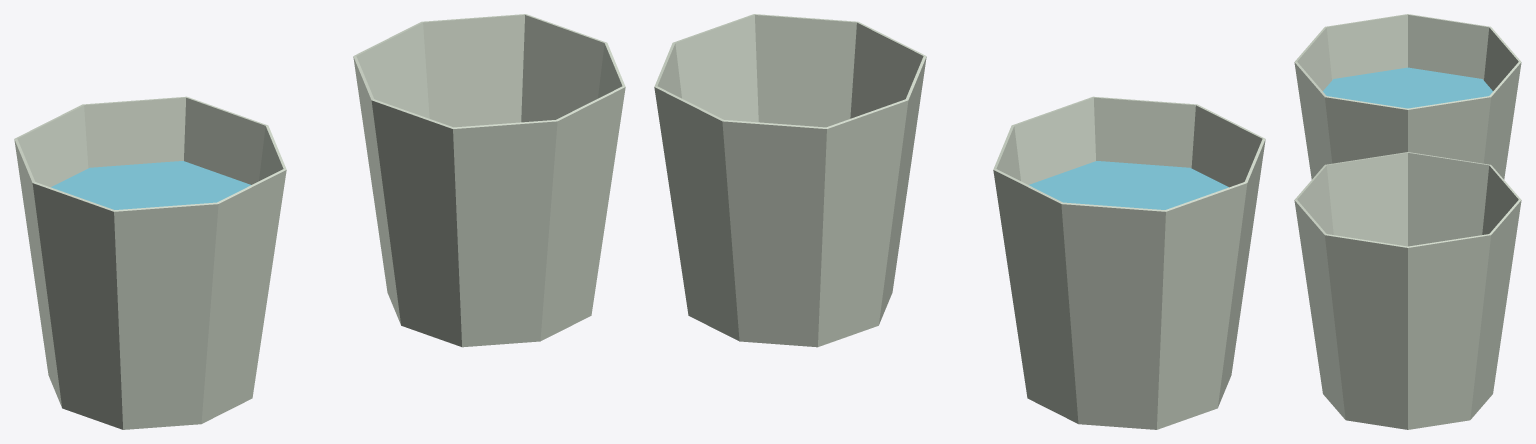
File: Budget.fbx
3 views of the same model, side by side, from view 1: azimuth 30°, elevation 25°; view 2: azimuth 150°, elevation 25°; view 3: azimuth 270°, elevation 25° (orthographic). The views are drawn at different scales.
Visible parts, largest first — view 1: Plane.001, Plane, Plane.002; view 2: Plane.001, Plane, Plane.002; view 3: Plane.001, Plane, Plane.002.
Part boxes in pixels (x1,y1,x2,y2): Plane.001: (353, 14, 625, 347); Plane: (14, 96, 286, 429); Plane.002: (51, 161, 250, 209); Plane.001: (654, 14, 926, 347); Plane: (993, 96, 1265, 429); Plane.002: (1029, 161, 1228, 209); Plane.001: (1294, 152, 1521, 429); Plane: (1294, 14, 1521, 179); Plane.002: (1323, 67, 1492, 108).
Size of the model in its own units: 2.51 by 6.11 by 2.38.
